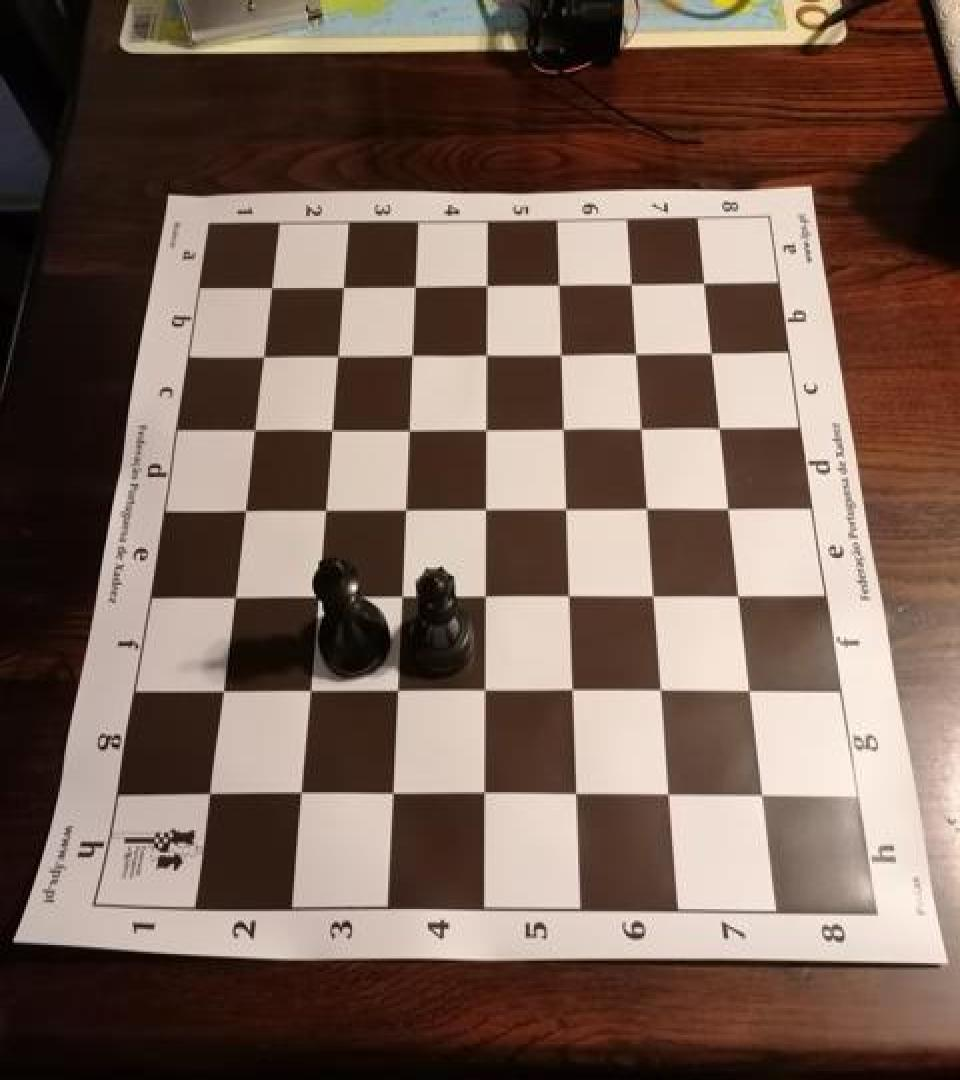xcorner: (736, 669, 768, 706), (646, 669, 678, 706), (556, 669, 588, 706), (466, 669, 498, 706), (378, 669, 410, 706), (289, 669, 321, 706), (202, 669, 234, 706), (691, 262, 723, 298), (617, 263, 649, 299), (544, 264, 576, 300), (472, 266, 504, 302), (257, 268, 289, 304), (698, 331, 730, 367), (622, 332, 654, 368), (546, 332, 578, 368), (471, 333, 503, 369), (396, 334, 428, 370), (322, 335, 354, 371), (247, 335, 279, 371), (707, 405, 739, 441), (627, 406, 659, 442), (548, 406, 580, 442), (470, 407, 502, 443), (392, 407, 424, 443), (314, 408, 346, 444), (237, 408, 269, 444), (716, 486, 748, 522), (633, 486, 665, 522), (551, 486, 583, 522), (469, 487, 501, 523), (388, 487, 420, 523), (307, 488, 339, 524), (226, 488, 258, 524), (725, 574, 757, 610), (639, 574, 671, 610), (553, 574, 585, 610), (468, 574, 500, 610), (383, 574, 415, 610), (298, 575, 330, 611), (215, 575, 247, 611), (748, 775, 780, 811), (653, 774, 685, 810), (559, 774, 591, 810), (465, 773, 497, 809), (372, 773, 404, 809), (279, 773, 311, 809), (187, 772, 219, 808), (400, 267, 432, 302), (328, 267, 360, 302)
